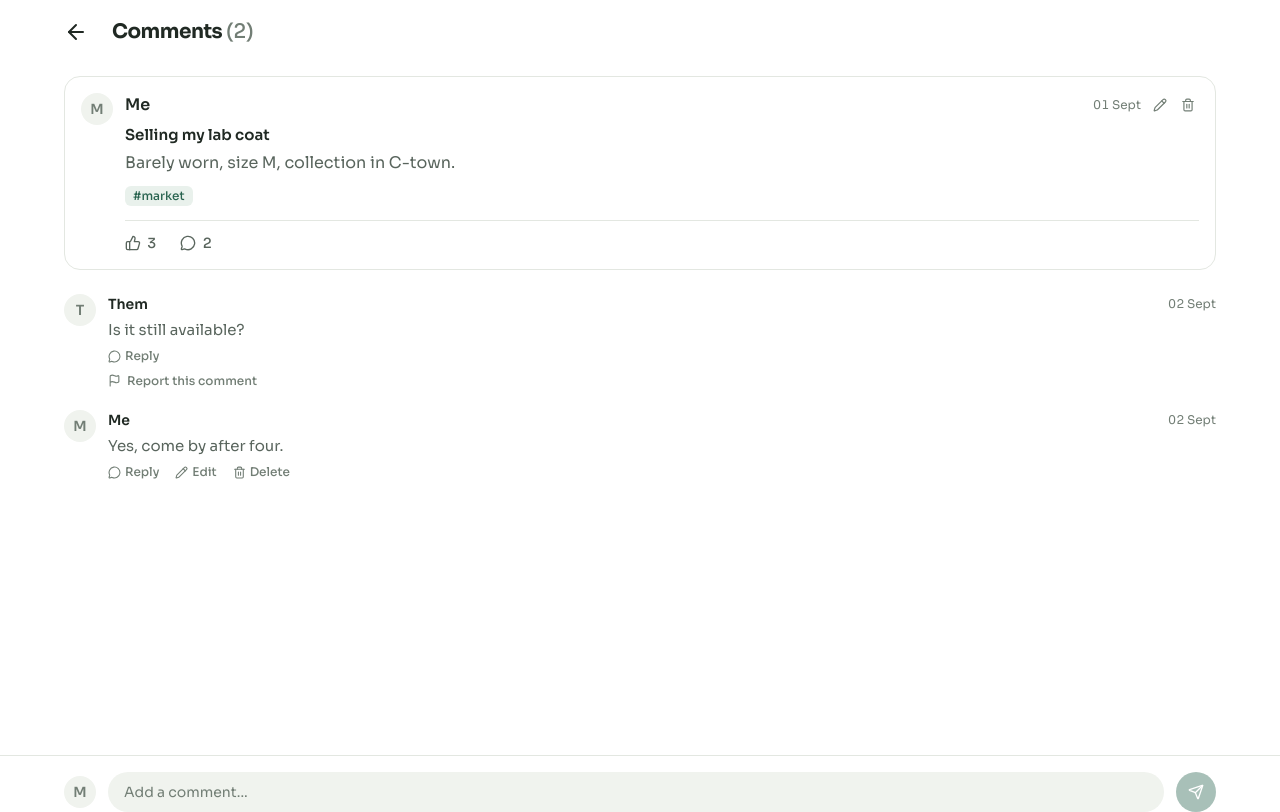
Test case: PostComments › says so when the comment is no longer the reader's to change
Click the button with aria-label "Edit your comment" at (196,472), box [175,464,217,480]
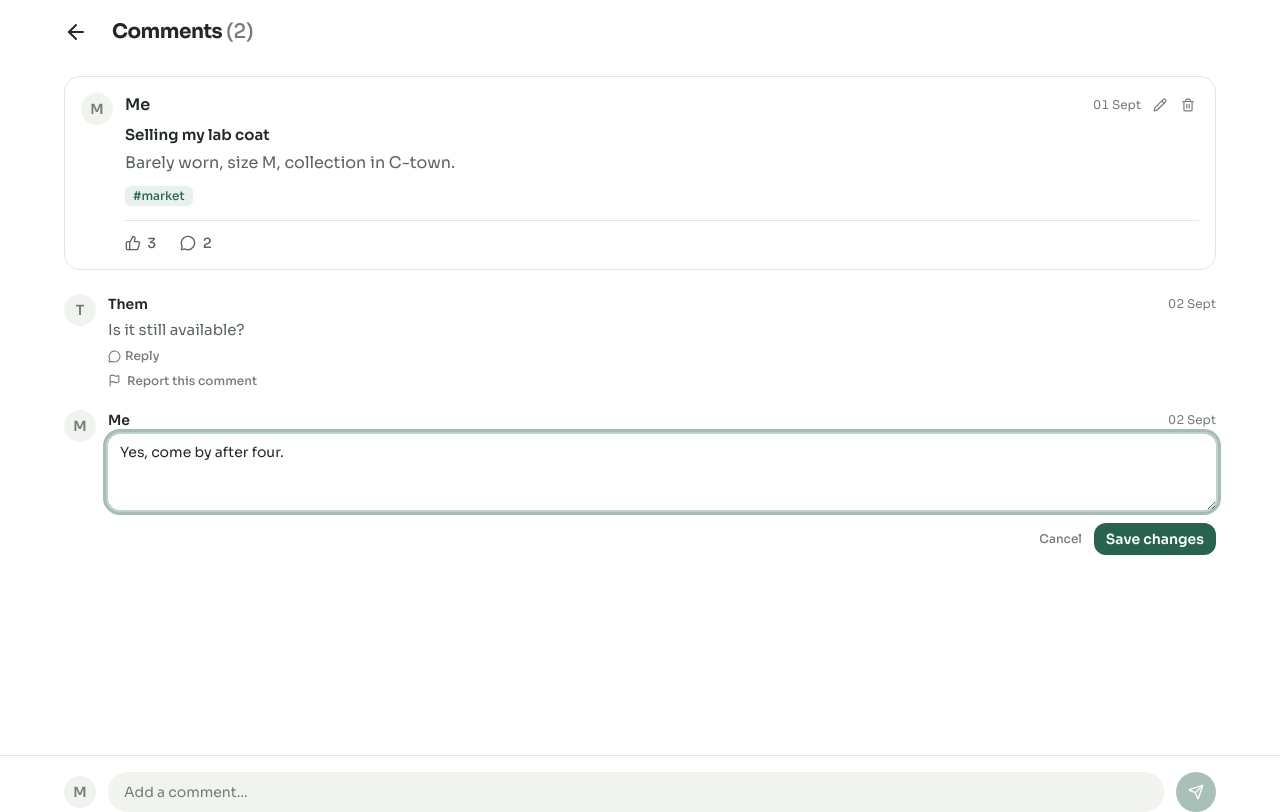
Replace the text in the text box named "Edit your comment" with "Updated anyway." at (662,472), box [108,434,1216,510]
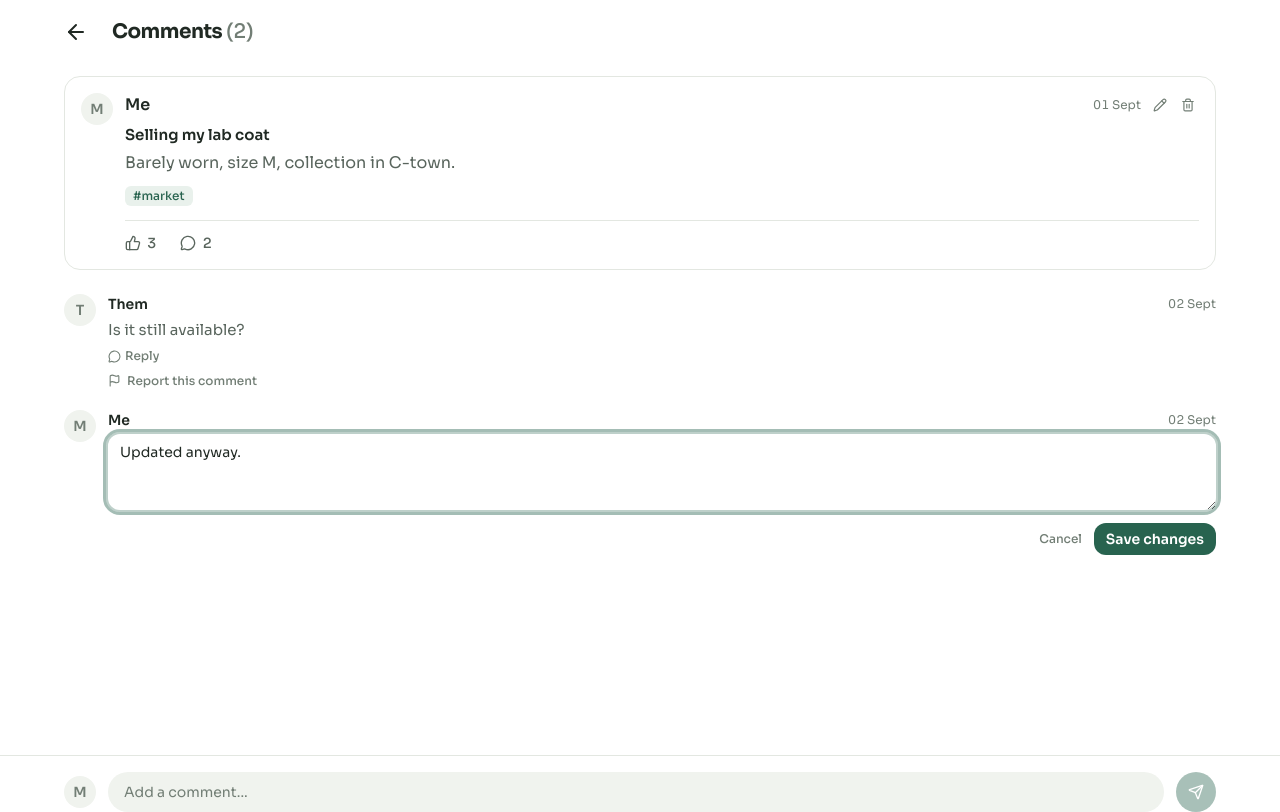
Click the button "Save changes" at (1155,539), box [1094,523,1216,555]
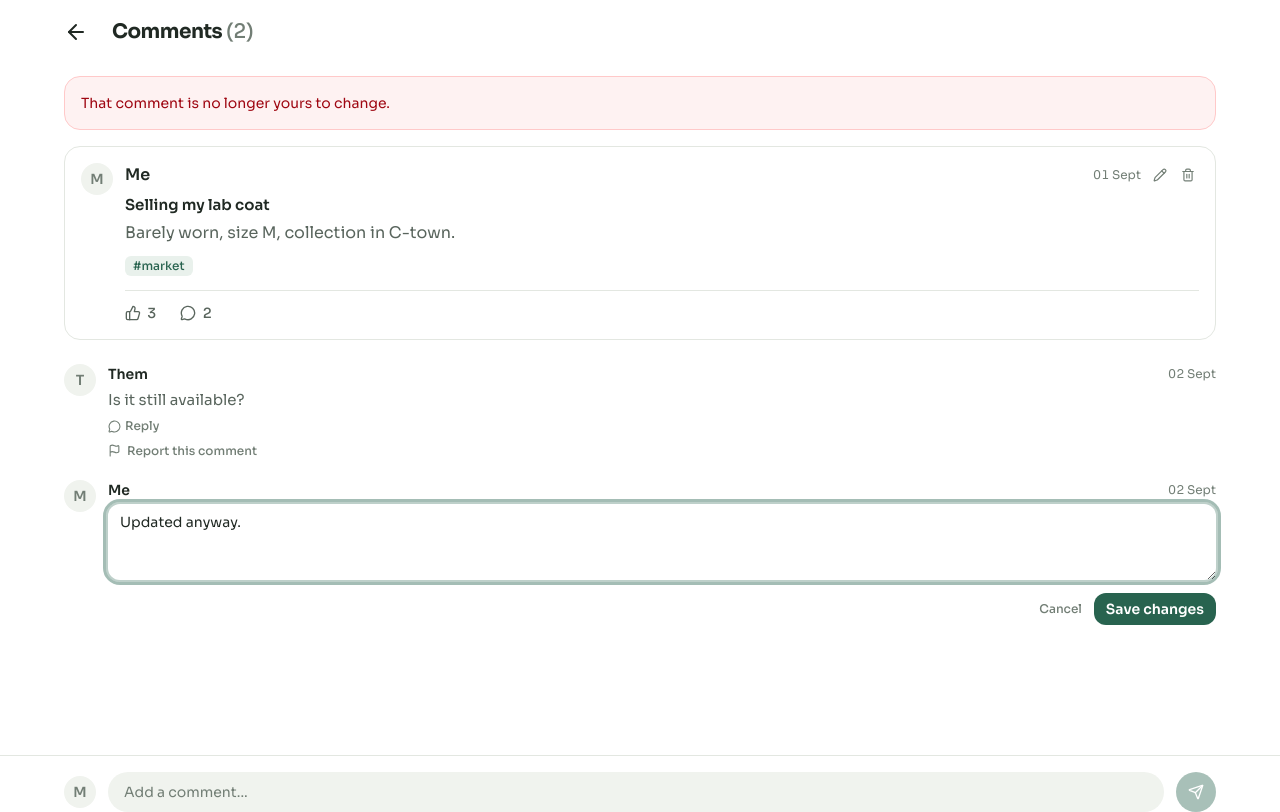
Expected: the message reads "That comment is no longer yours to change.", [81,94,390,112]
